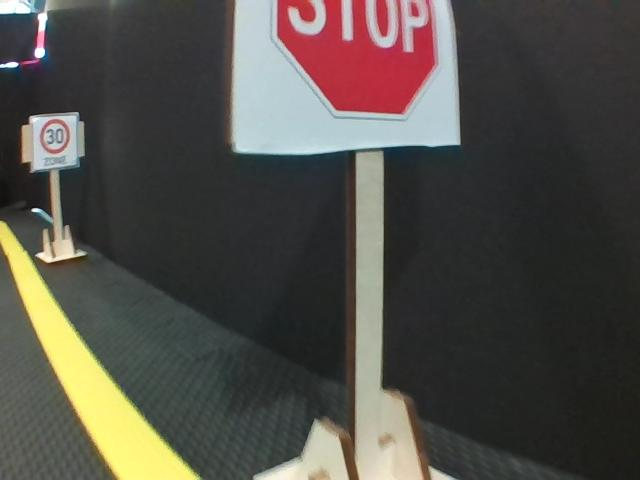30: (31, 117, 76, 168)
stop: (236, 2, 459, 145)
